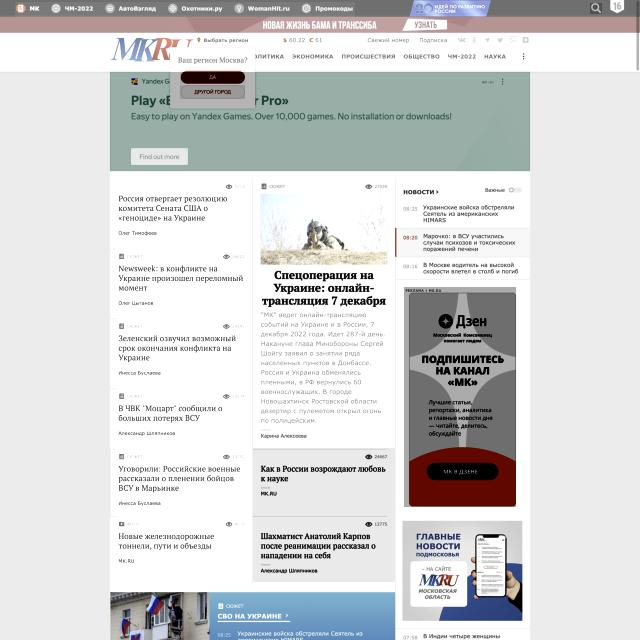CheckBox: (131, 148, 188, 165), (180, 70, 245, 84), (180, 85, 245, 99)
ImageView: (110, 72, 530, 171), (404, 287, 516, 507), (403, 521, 522, 621)
Input field: (259, 310, 388, 426)
ProgressBar: (0, 15, 636, 32)
QR code: (116, 181, 248, 571), (253, 448, 395, 582)
bag: (0, 0, 640, 72)
breadcrumbs: (259, 268, 391, 308)
carousel: (590, 3, 602, 14)
copy: (261, 193, 387, 265)
data feed: (139, 152, 180, 160)
decoration: (15, 2, 355, 17)
label: (170, 47, 256, 108)
